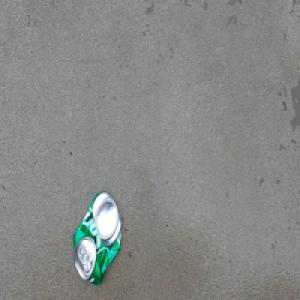SodaCan: (71, 188, 123, 287)
